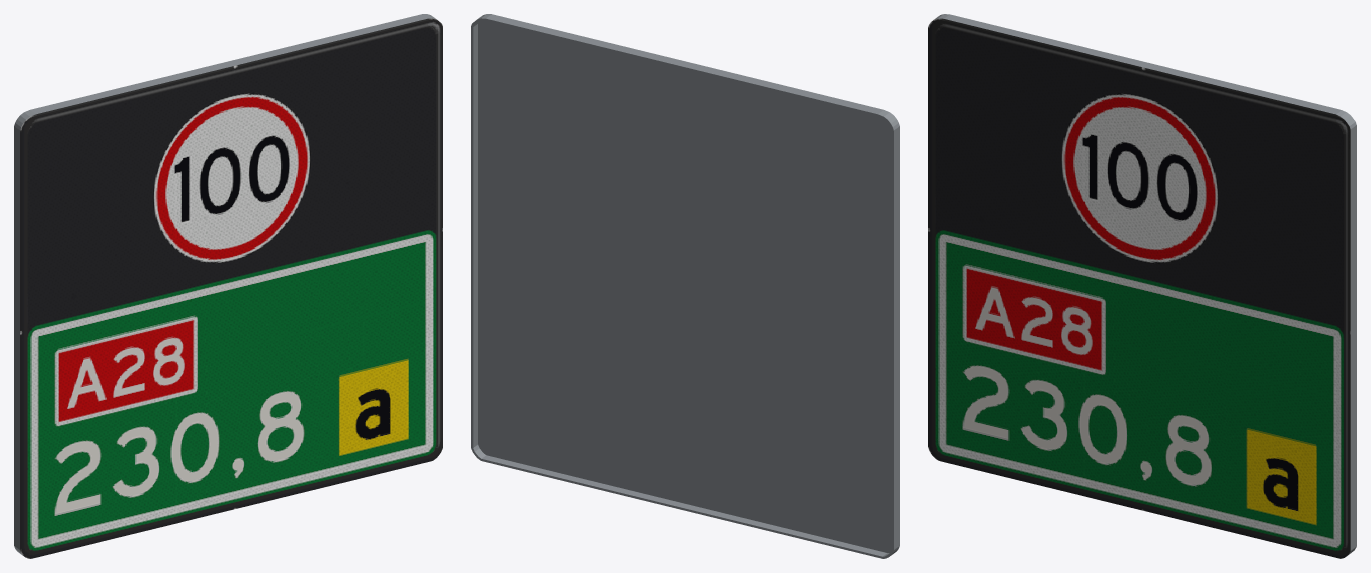
3 renders of one model, left to right at view 1: azimuth 30°, elevation 25°; view 2: azimuth 150°, elevation 25°; view 3: azimuth 330°, elevation 25°, orthographic.
Parts seen in each view (by area): view 1: cat_72e08f6c1c926524; view 2: cat_72e08f6c1c926524; view 3: cat_72e08f6c1c926524.
Boxes of the visible parts, <box> form: cat_72e08f6c1c926524: <box>14,14,442,558</box>; cat_72e08f6c1c926524: <box>471,14,899,558</box>; cat_72e08f6c1c926524: <box>928,14,1356,558</box>.
Size of the model in its own units: 0.6 by 0.015 by 0.6014.
2 materials, 1 textured.
